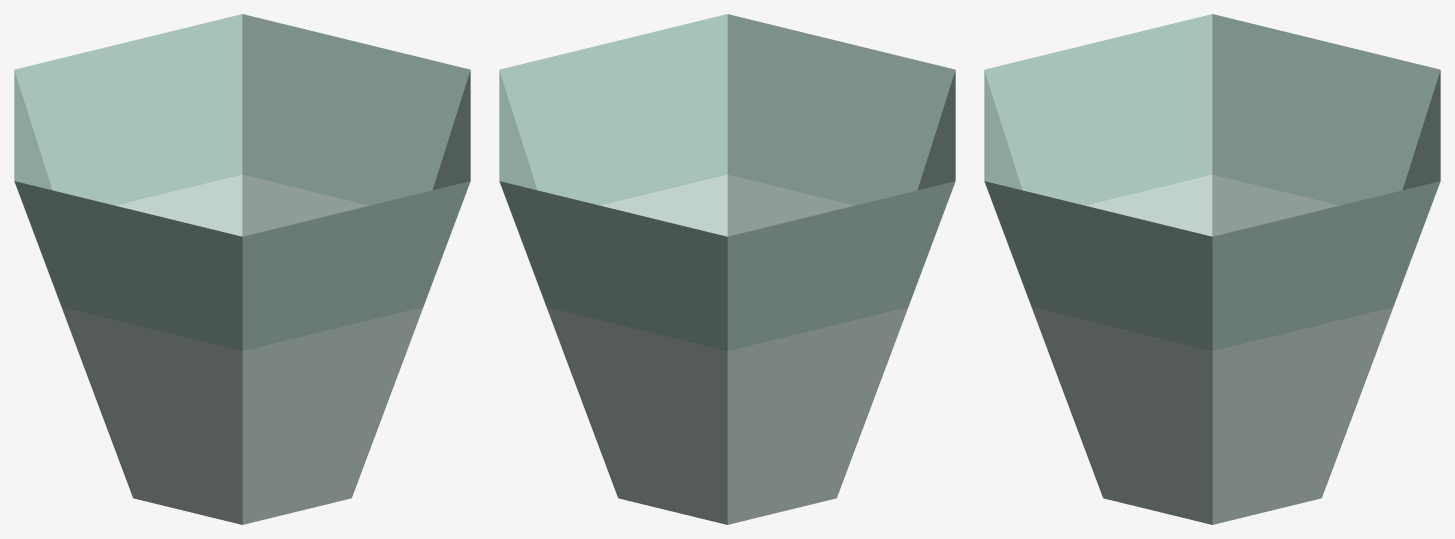
The model's file is LightBlue_01.fbx.
3 views of the same model, side by side, from view 1: azimuth 30°, elevation 25°; view 2: azimuth 150°, elevation 25°; view 3: azimuth 270°, elevation 25° (orthographic).
Visible parts, largest first — view 1: LightBlue_01; view 2: LightBlue_01; view 3: LightBlue_01.
Part boxes in pixels (x1=…): LightBlue_01: x1=14, y1=14, x2=470, y2=524; LightBlue_01: x1=499, y1=14, x2=955, y2=524; LightBlue_01: x1=984, y1=14, x2=1440, y2=524.
Size of the model in its own units: 339 by 246 by 294.
Materials: 1 (1 with a texture image).
